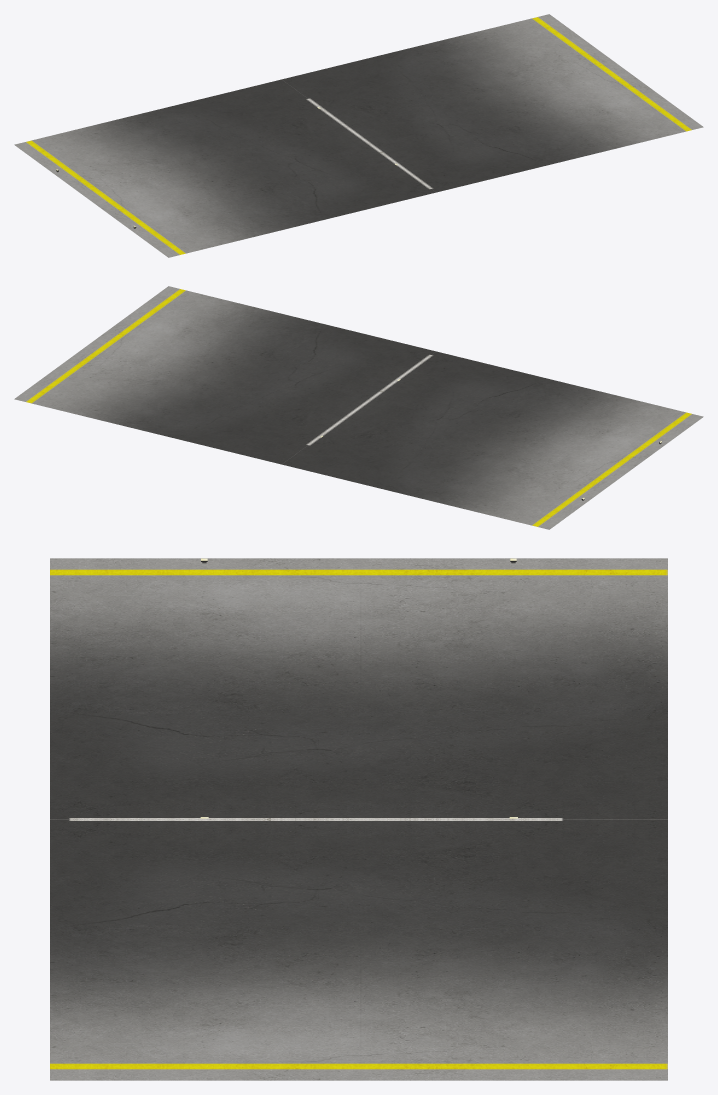
Rendered from air_road_4x2_a.FBX.
3 renders of one model, top to bottom at view 1: azimuth 30°, elevation 25°; view 2: azimuth 150°, elevation 25°; view 3: azimuth 270°, elevation 25°, orthographic. The views are drawn at different scales.
Parts seen in each view (by area): view 1: air_road_4x2_a; view 2: air_road_4x2_a; view 3: air_road_4x2_a.
Boxes of the visible parts, x1,y1,x2,y2 form: air_road_4x2_a: [14, 14, 703, 257]; air_road_4x2_a: [14, 286, 703, 529]; air_road_4x2_a: [50, 558, 667, 1080].
Size of the model in its own units: 80 by 0.3185 by 40.
